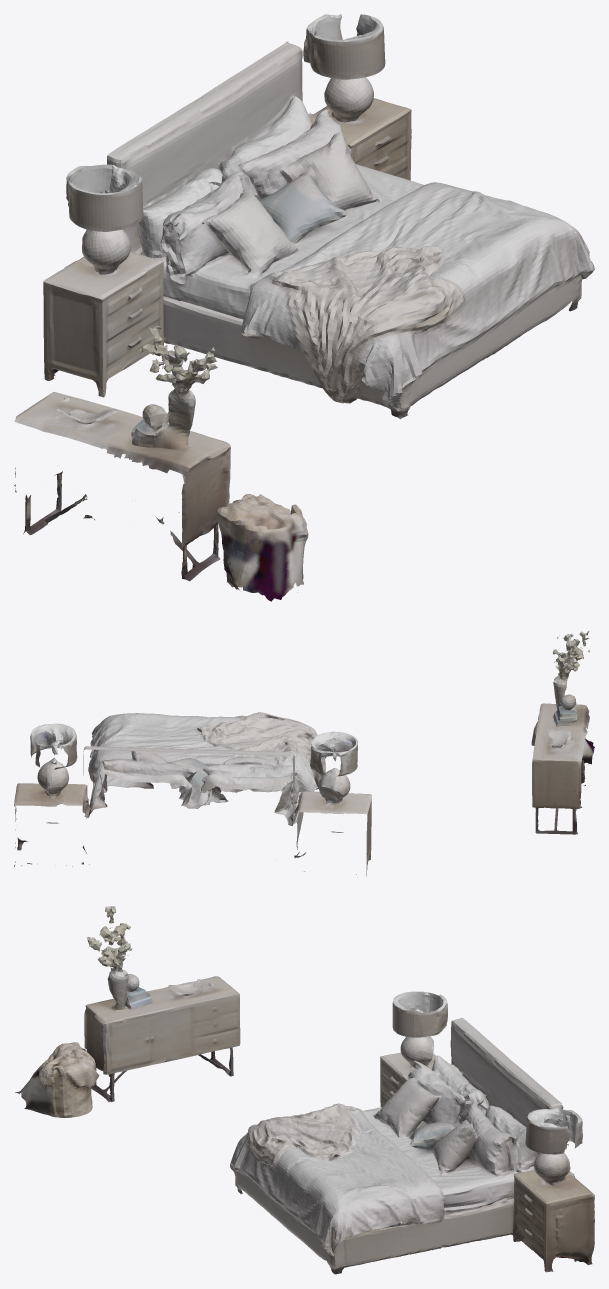
The picture shows the model from 3 angles, top to bottom: view 1: azimuth 30°, elevation 25°; view 2: azimuth 150°, elevation 25°; view 3: azimuth 270°, elevation 25°; orthographic projection. The views are drawn at different scales.
Visible parts, largest first — view 1: obj_1.ply; view 2: obj_1.ply; view 3: obj_1.ply.
Part boxes in pixels (x1,y1,x2,y2): obj_1.ply: (14,14,594,601); obj_1.ply: (14,631,594,875); obj_1.ply: (15,906,594,1274).
Size of the model in its own units: 4.91 by 1.74 by 5.28.
